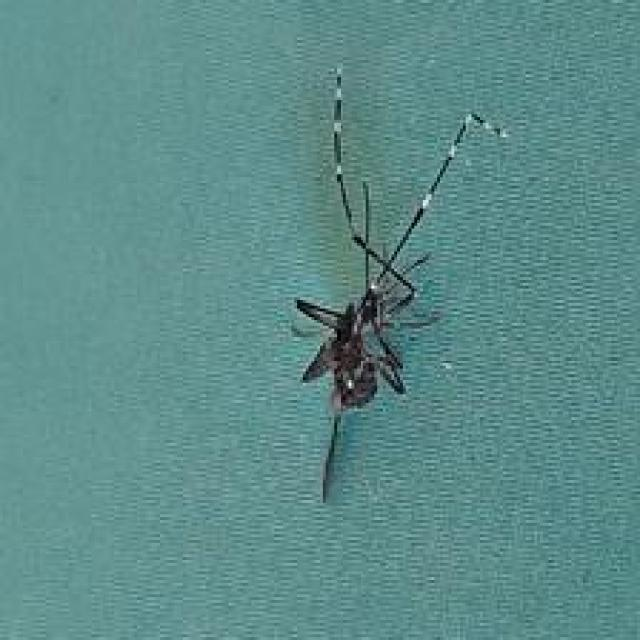Aedes albopictus: (288, 64, 508, 504)
